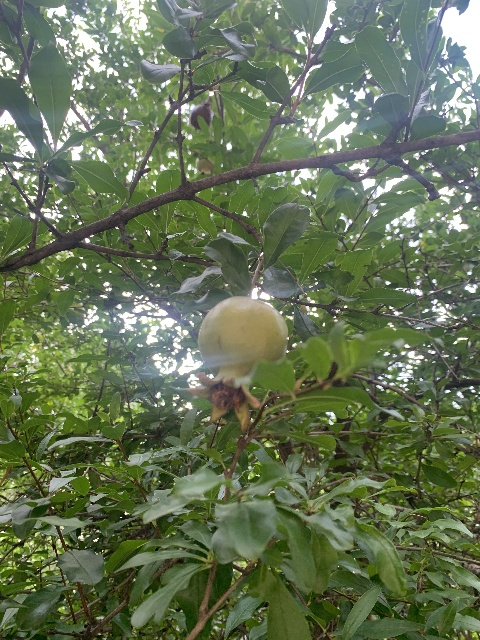mid-growth: (186, 295, 288, 431)
